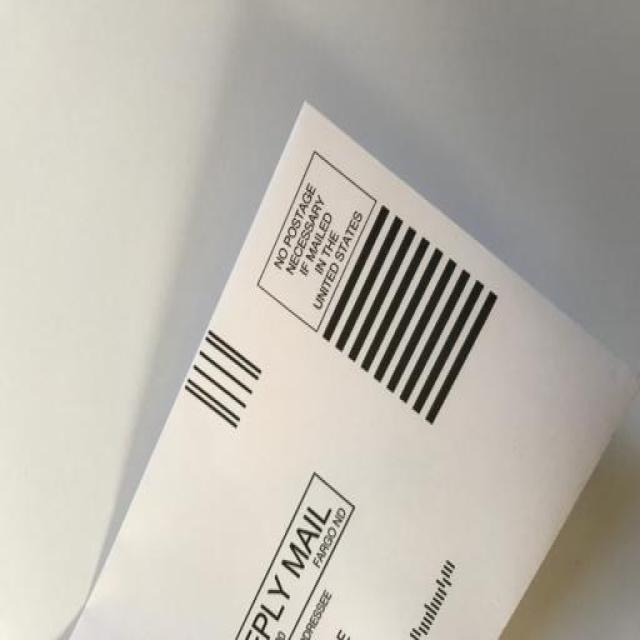paper: (52, 99, 638, 638)
